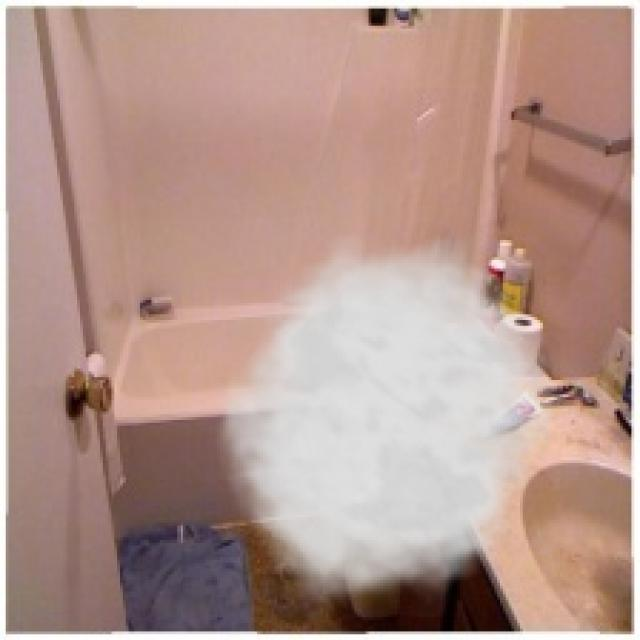smoke: (208, 232, 572, 617)
